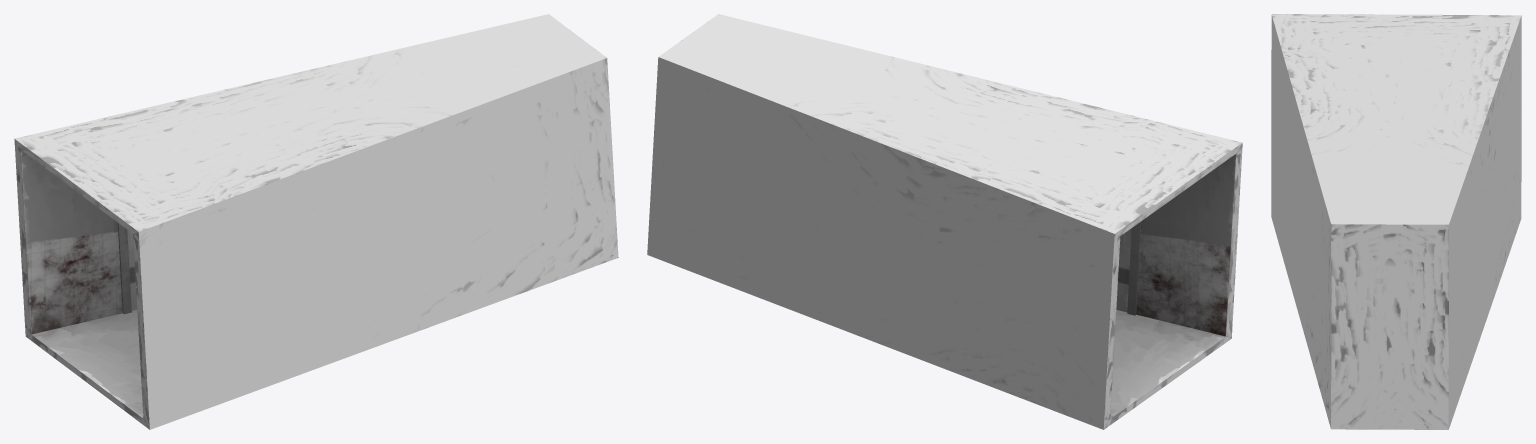
The model's file is hospital.fbx.
3 views of the same model, side by side, from view 1: azimuth 30°, elevation 25°; view 2: azimuth 150°, elevation 25°; view 3: azimuth 270°, elevation 25° (orthographic).
Parts seen in each view (by area): view 1: pSphere13; view 2: pSphere13; view 3: pSphere13.
Part boxes in pixels (x1,y1,x2,y2): pSphere13: (14, 14, 618, 429); pSphere13: (647, 14, 1242, 429); pSphere13: (1271, 14, 1521, 429).
Bounding box in the file's own units: 27.14 × 11.71 × 11.66.
Materials: 1 (1 with a texture image).
